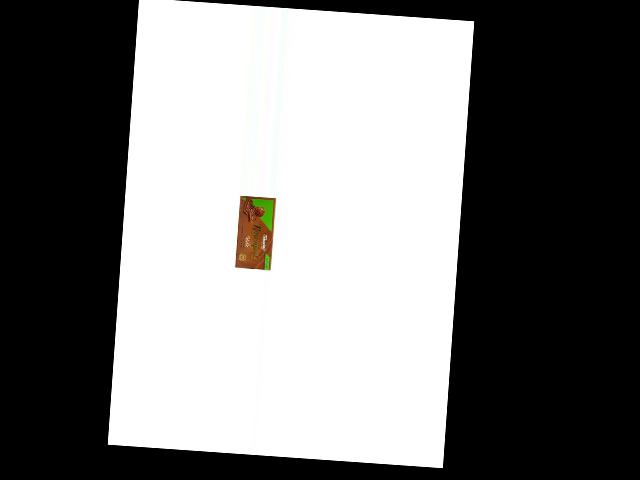chocolate: (233, 194, 278, 272)
